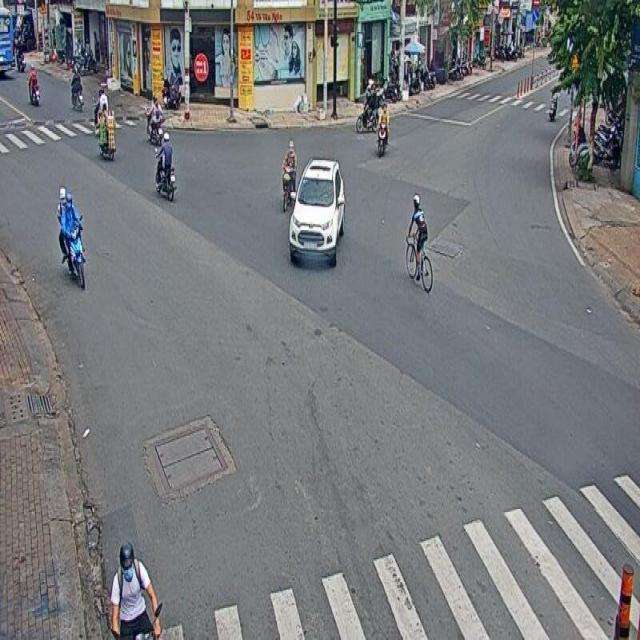bicycle: (406, 194, 432, 294)
car: (289, 156, 344, 266)
motorcycle: (56, 186, 86, 289), (155, 133, 177, 201), (282, 140, 296, 215), (378, 104, 390, 157)
